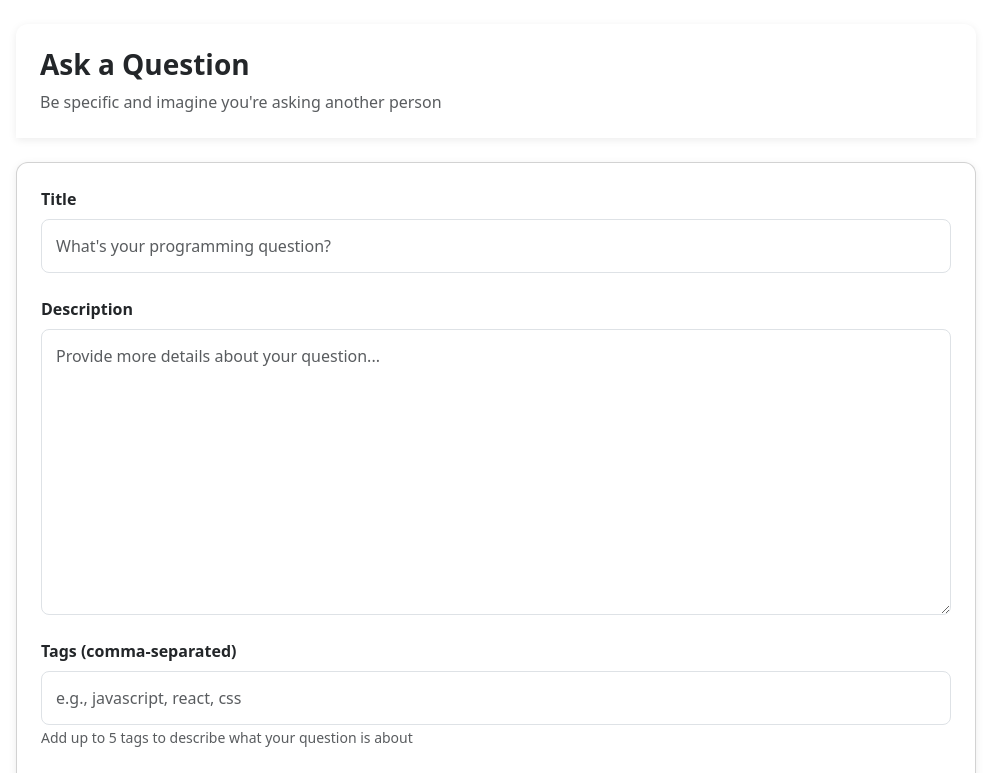
Scenario: Question Quality Improver › shows an error message when the AI request fails
In the field labelled "Title": (496, 246) x1=41 y1=219 x2=951 y2=273, type "react not working"
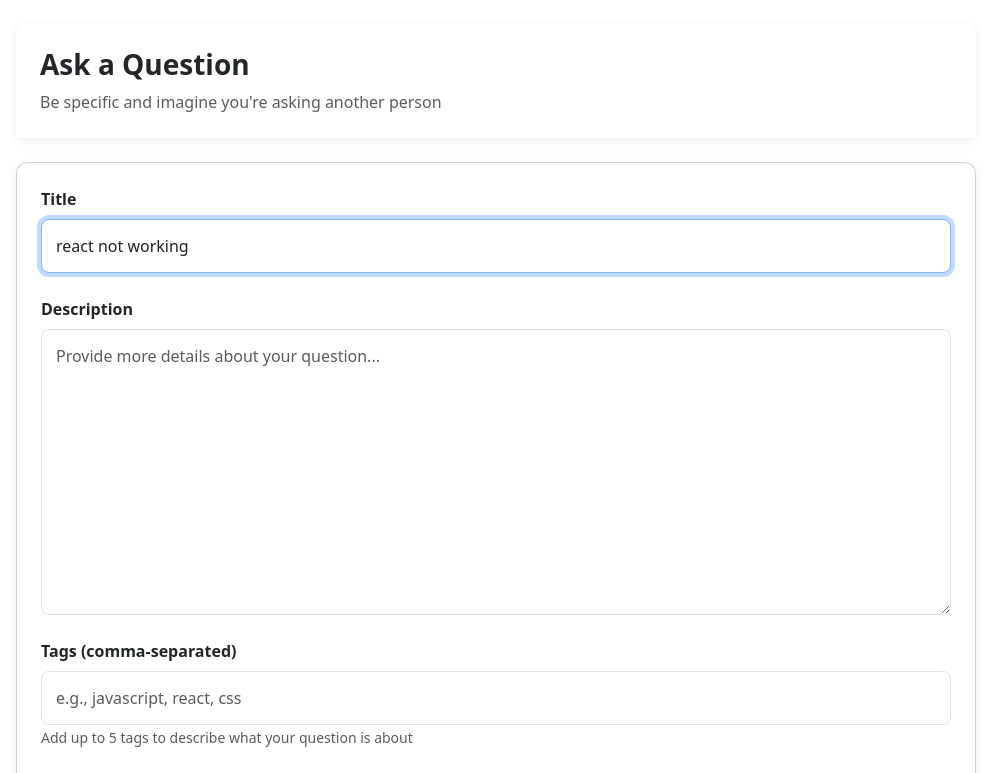
In the text box labelled "Description": (496, 472) x1=41 y1=329 x2=951 y2=614, type "useEffect runs twice"
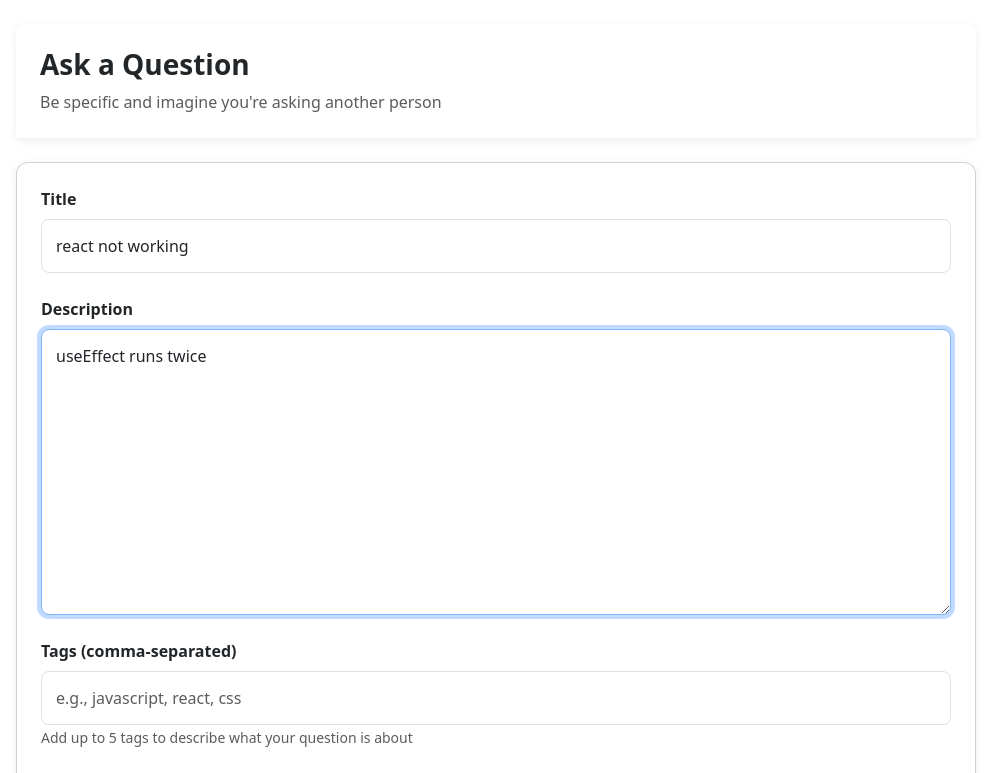
In the field labelled "Tags (comma-separated)": (496, 698) x1=41 y1=670 x2=951 y2=724, type "react"
(page scrolled)
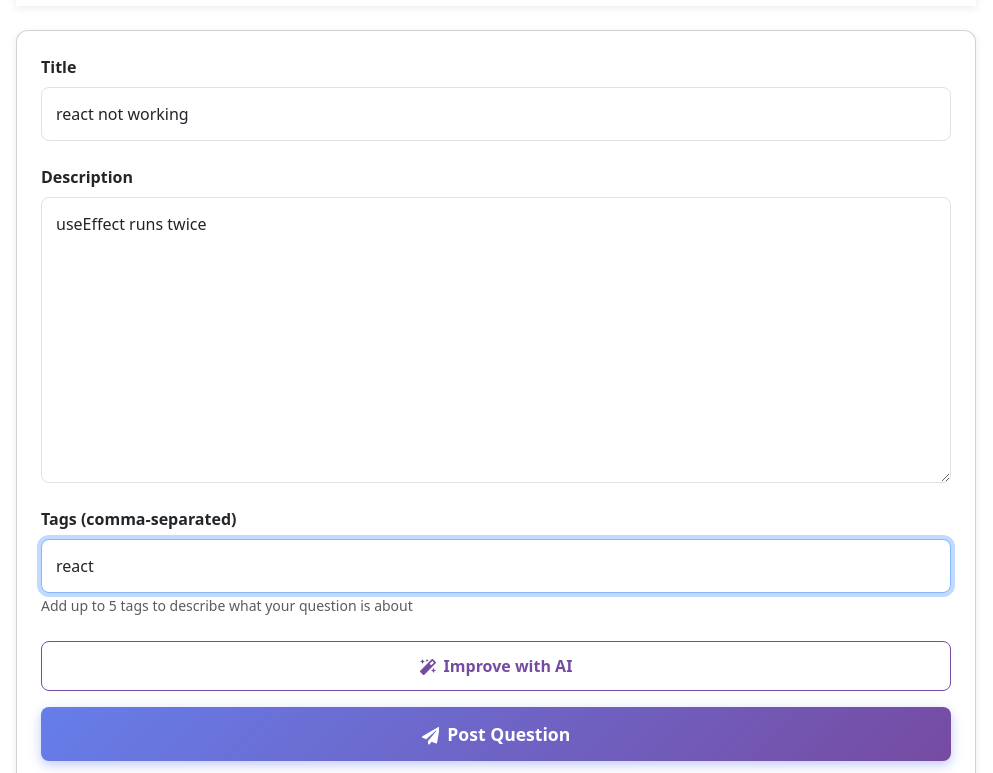
Click the button "Improve with AI": (496, 666) x1=41 y1=640 x2=951 y2=690
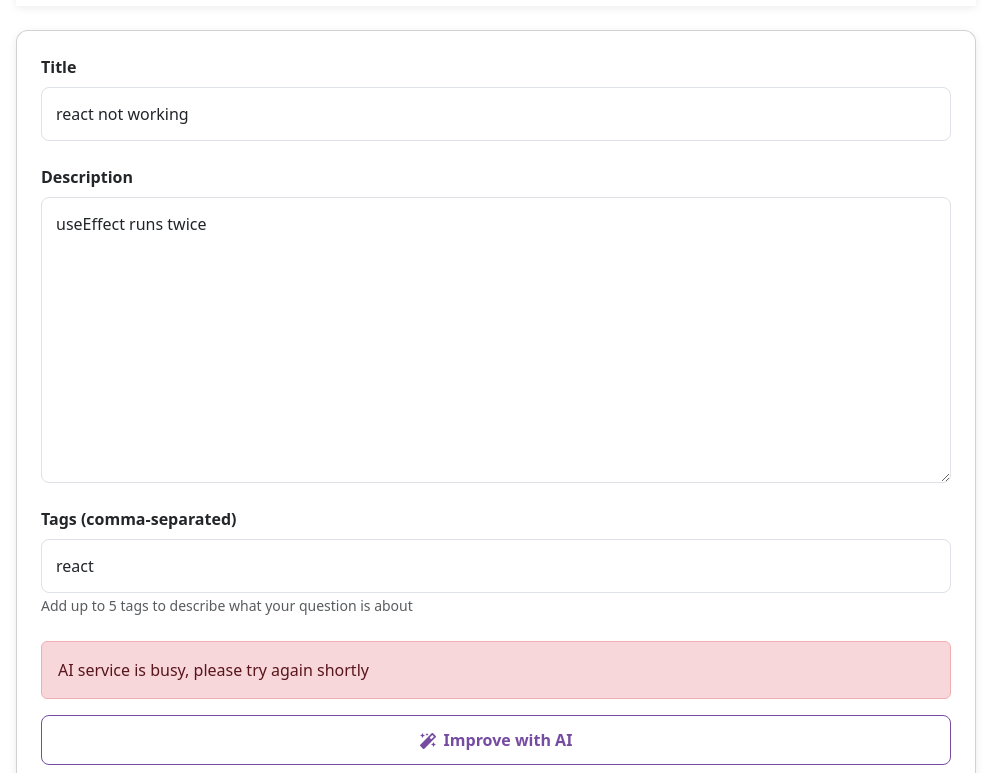
Check: the text "AI service is busy, please try again shortly" is shown, box x1=41 y1=640 x2=951 y2=698
